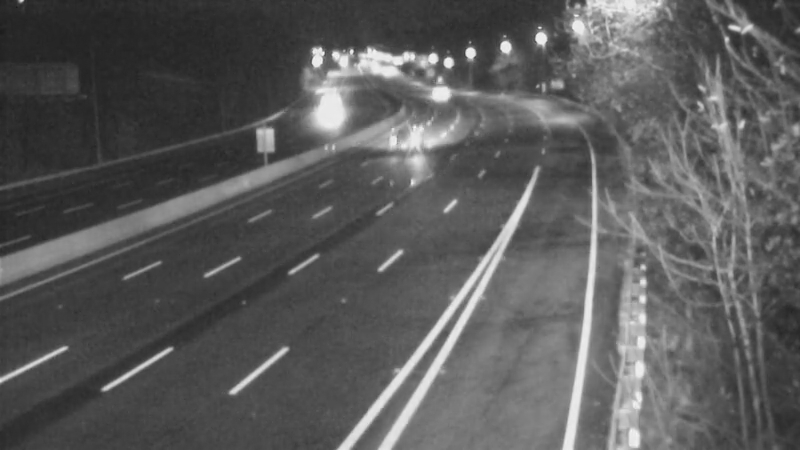vehicle: (412, 71, 462, 121), (390, 114, 440, 164), (296, 90, 346, 140)
